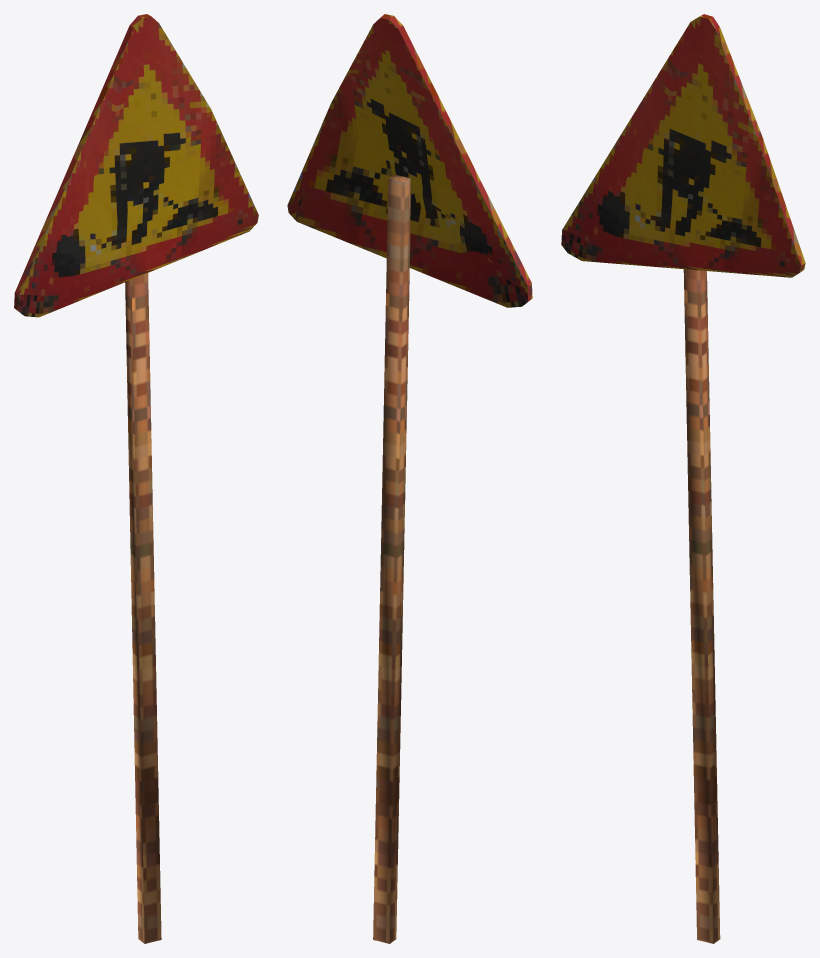
Rendered from Señal_Peatonal.fbx.
3 renders of one model, left to right at view 1: azimuth 30°, elevation 25°; view 2: azimuth 150°, elevation 25°; view 3: azimuth 330°, elevation 25°, orthographic.
Parts seen in each view (by area): view 1: Plano.003; view 2: Plano.003; view 3: Plano.003.
Part boxes in pixels (x1,y1,x2,y2): Plano.003: (14, 14, 258, 943); Plano.003: (287, 14, 532, 943); Plano.003: (561, 14, 805, 943).
Bounding box in the file's own units: 303 × 1114 × 25.85.
Materials: 1 (1 with a texture image).
